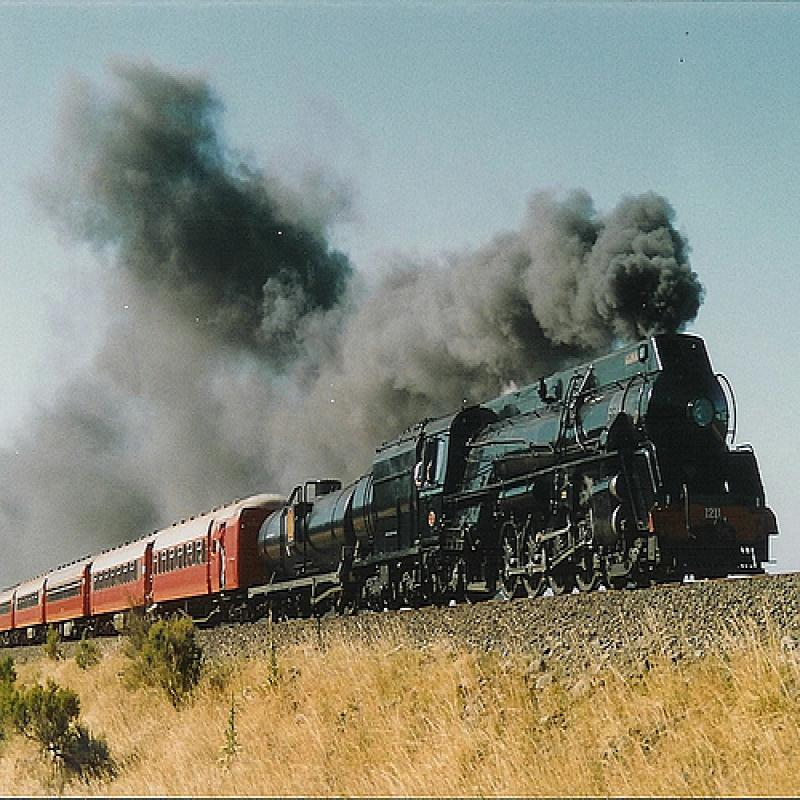train: (1, 331, 780, 647)
